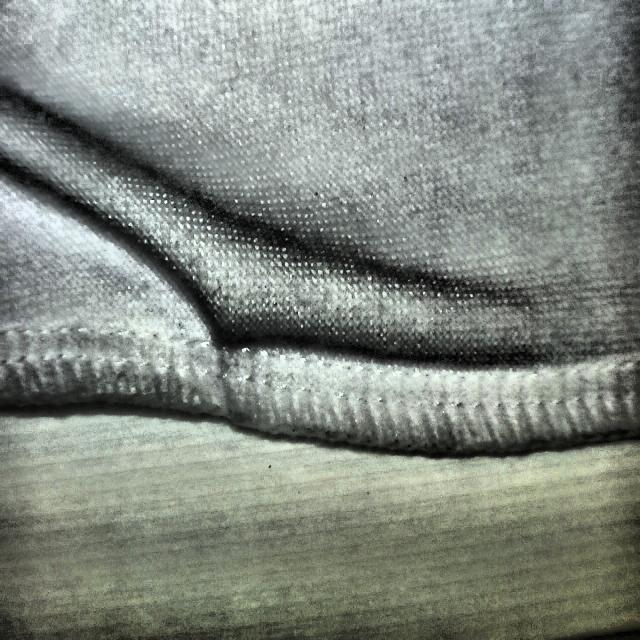gray stitch: (139, 206, 333, 437)
